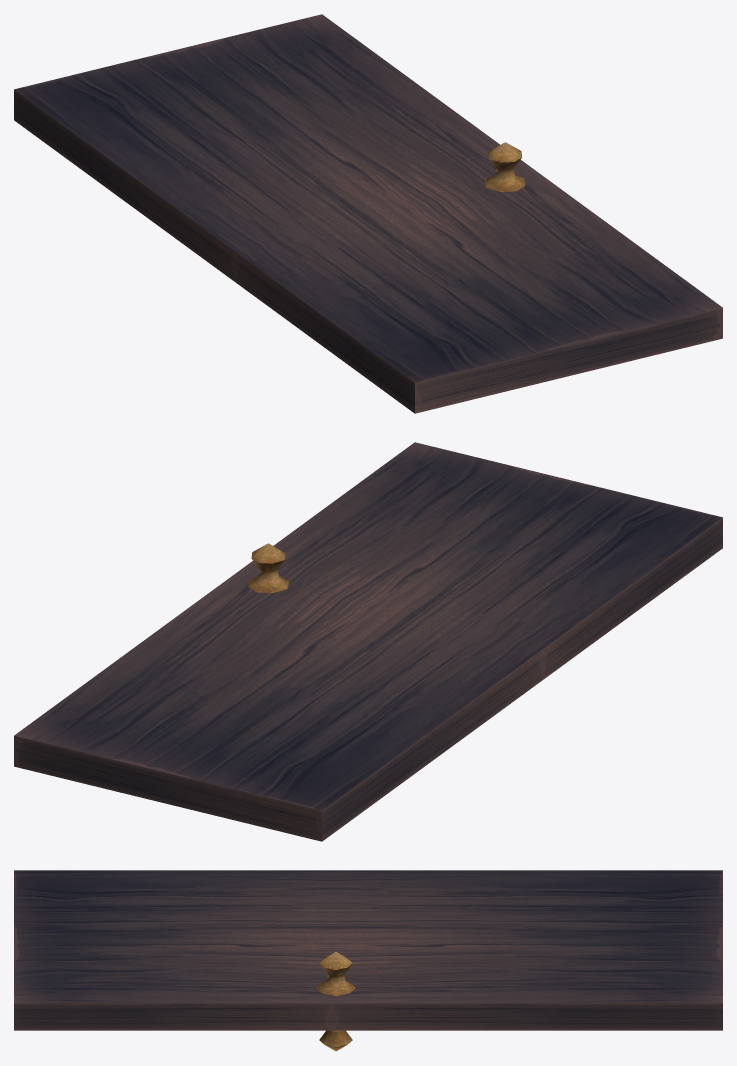
File: Door_G.fbx
3 renders of one model, top to bottom at view 1: azimuth 30°, elevation 25°; view 2: azimuth 150°, elevation 25°; view 3: azimuth 270°, elevation 25°, orthographic. The views are drawn at different scales.
Parts seen in each view (by area): view 1: Door_G; view 2: Door_G; view 3: Door_G.
Part boxes in pixels (x1,y1,x2,y2): Door_G: [14, 14, 722, 413]; Door_G: [14, 442, 722, 841]; Door_G: [14, 870, 722, 1051].
Size of the model in its own units: 18.3 by 6.42 by 41.26.
